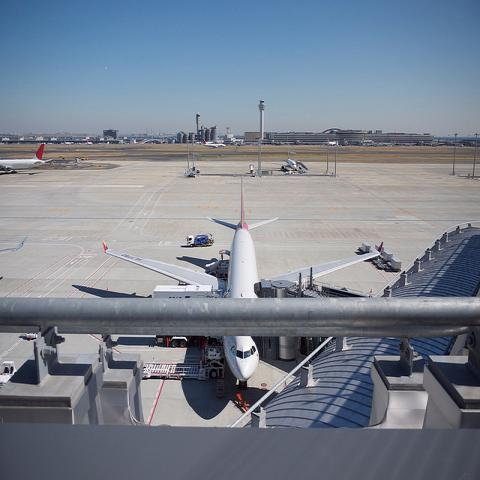truck: (154, 336, 222, 347), (186, 233, 214, 249)
